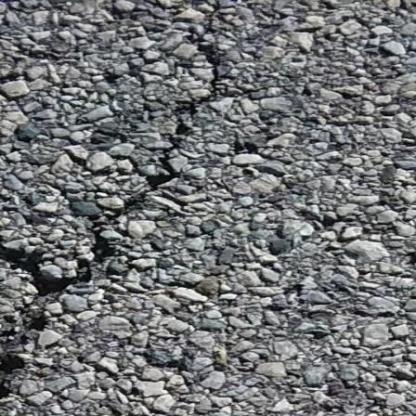Cracks: (0, 4, 290, 299), (0, 257, 51, 415)
